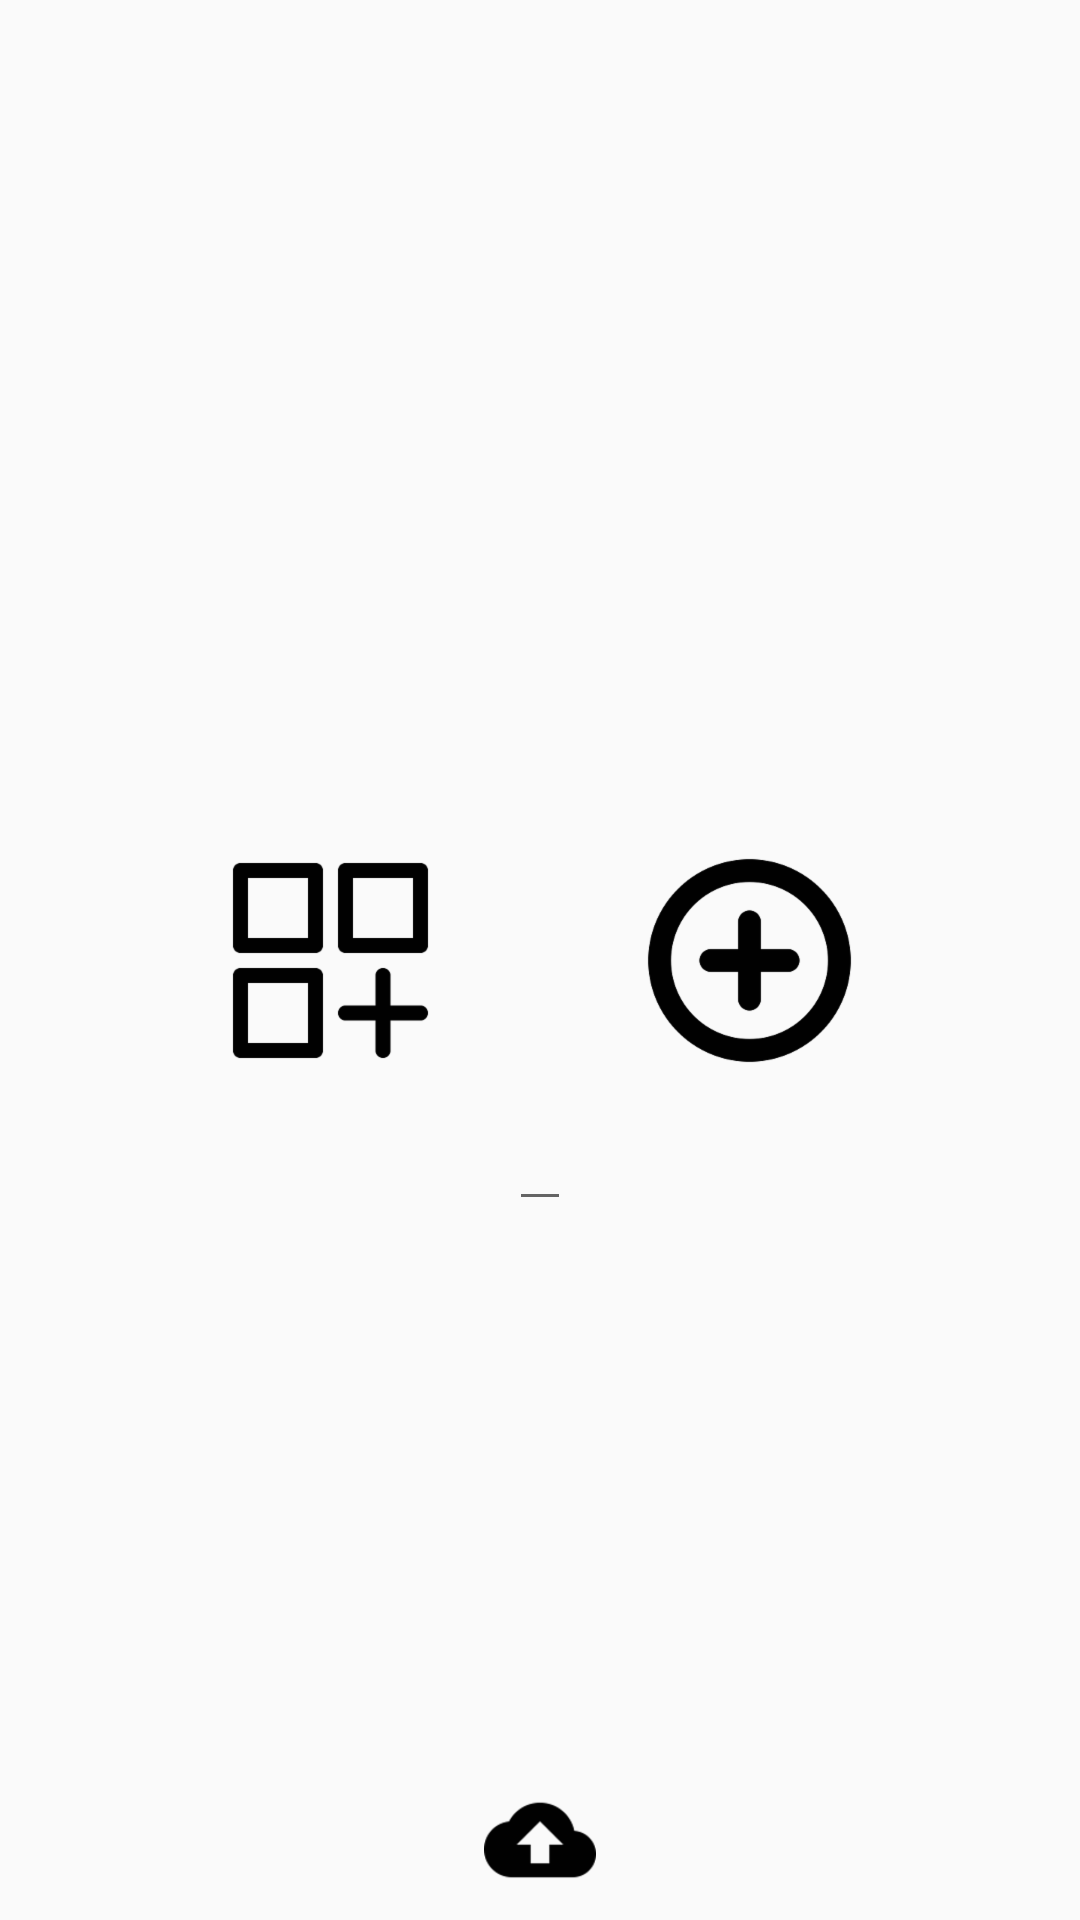

Locate icon controls on the screen. Image size 1080px x 1920px, boxes as bbox=[x1, y1, x2, y2].
add to existing: bbox=[233, 863, 428, 1058]
backup: bbox=[484, 1802, 596, 1878]
create: bbox=[648, 859, 851, 1062]
